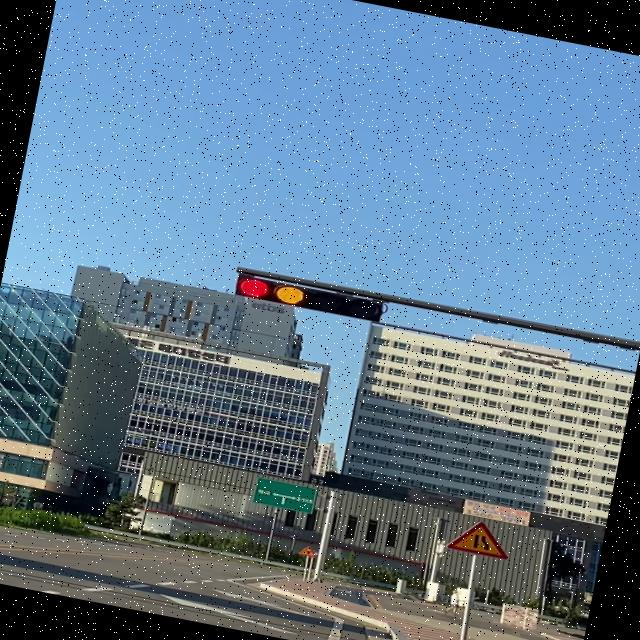yellow_light: (236, 272, 385, 323)
